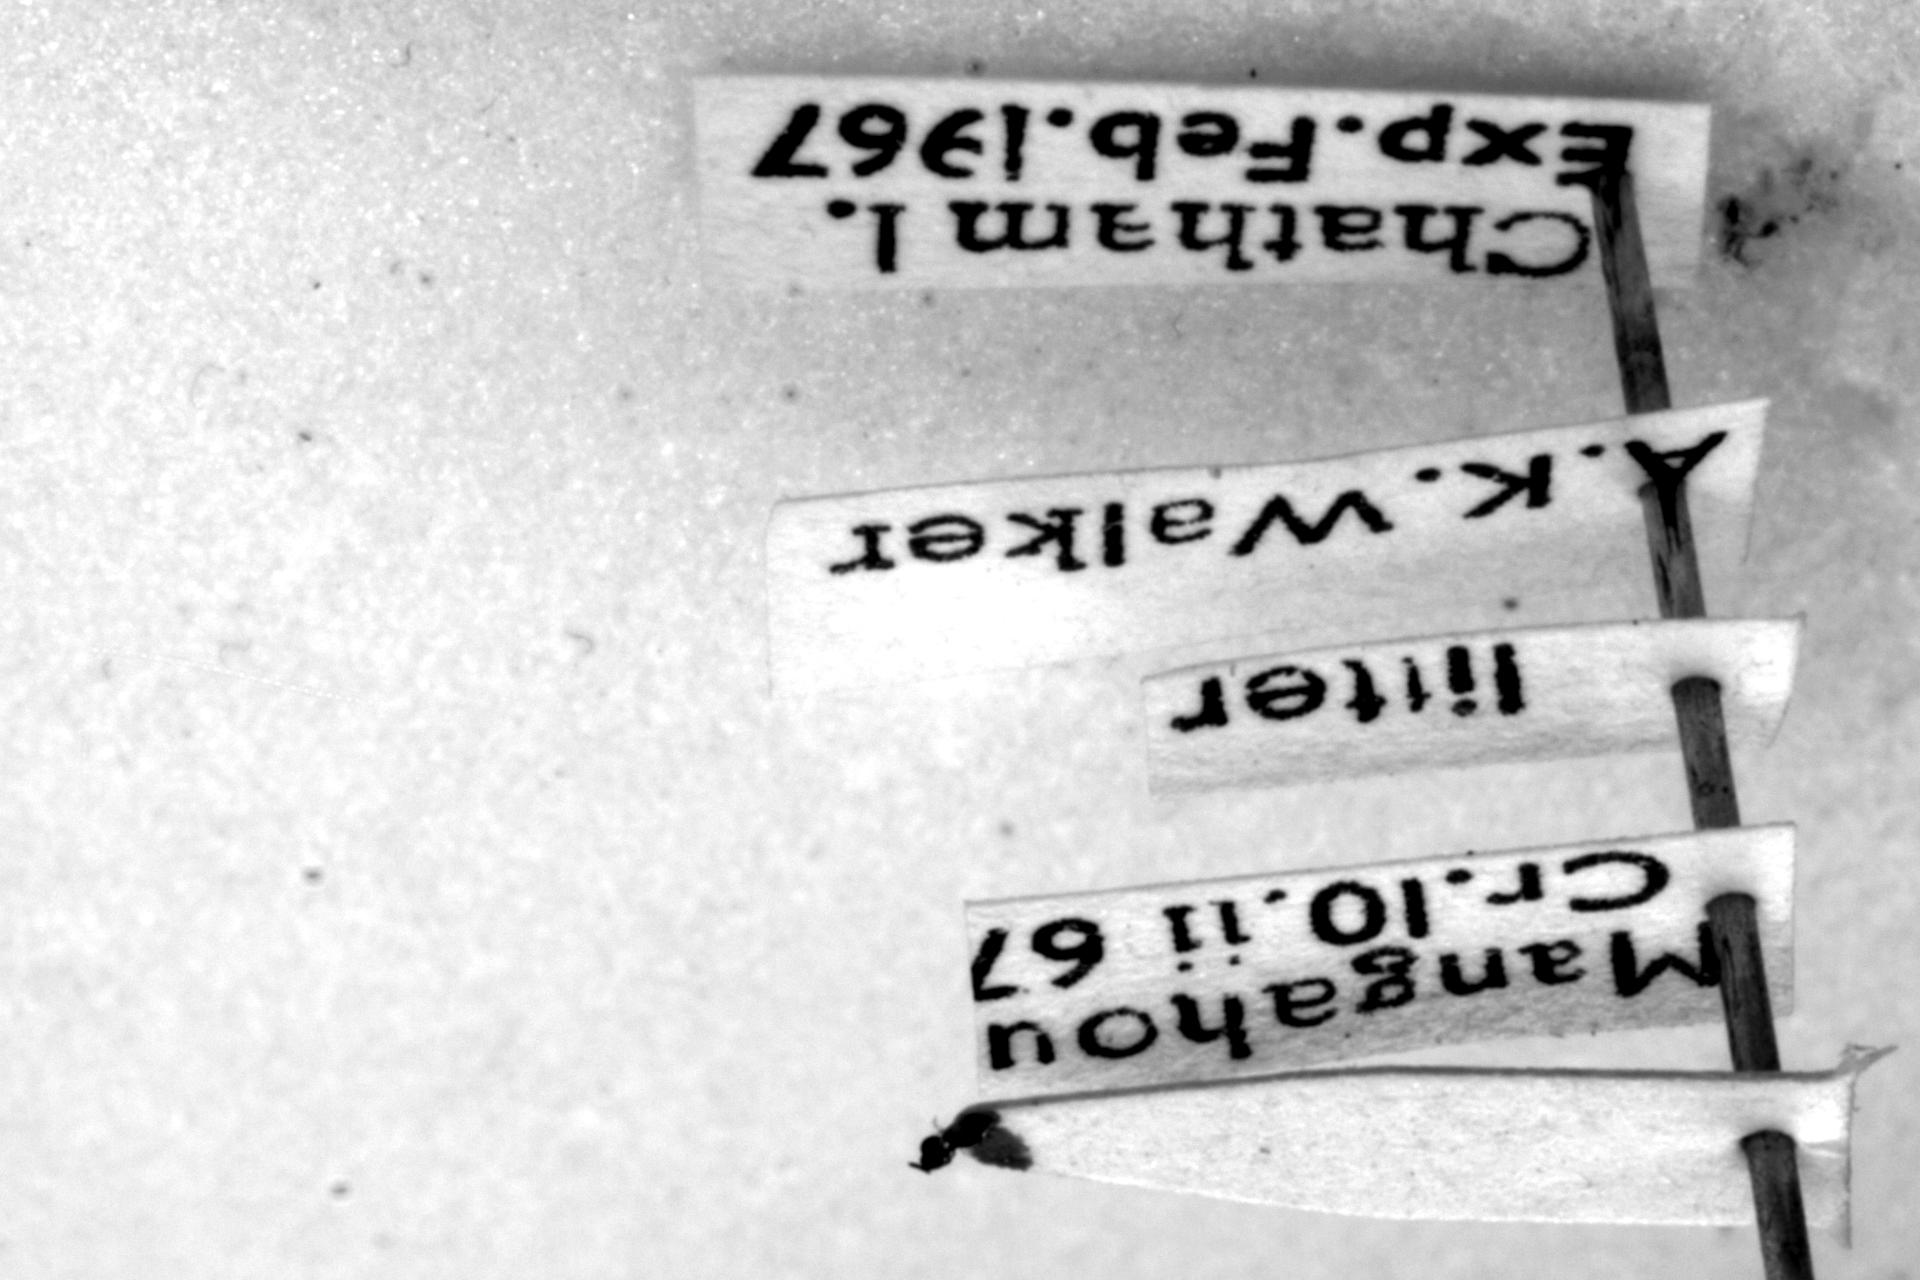typed_label: (766, 401, 1766, 694), (967, 826, 1796, 1099), (697, 74, 1710, 289), (1144, 614, 1804, 799)
